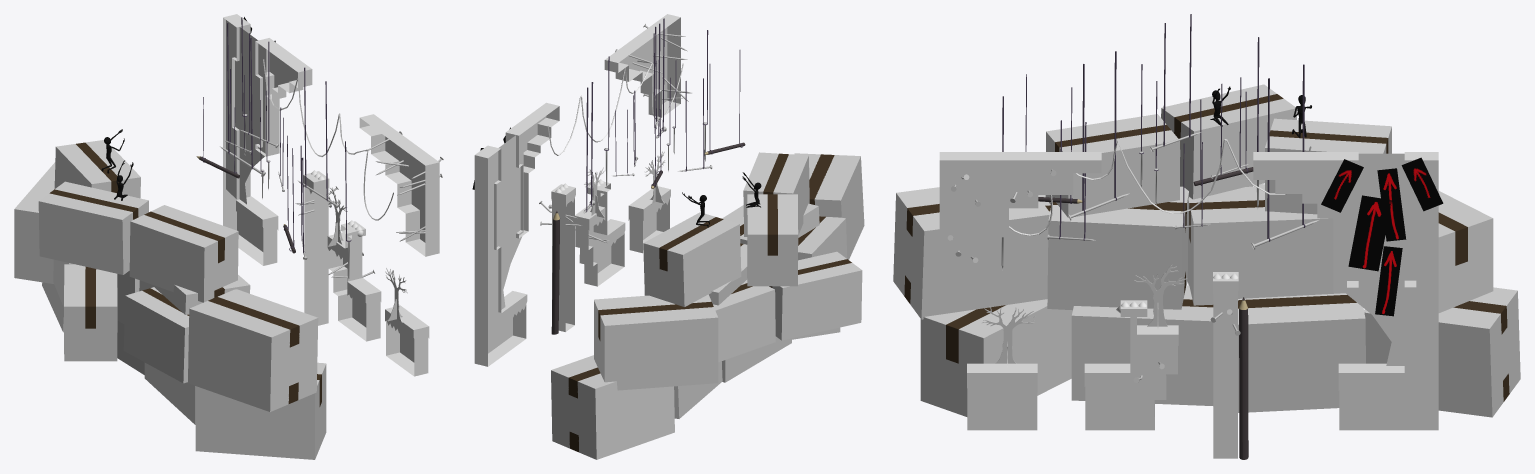
File: Pantalla 24DEF.fbx
3 renders of one model, left to right at view 1: azimuth 30°, elevation 25°; view 2: azimuth 150°, elevation 25°; view 3: azimuth 270°, elevation 25°, orthographic. The views are drawn at different scales.
Visible parts, largest first — view 1: Cube.062, Caja_1.013, Cube.071, Cube.068, Cube.072, Cube.067, Cube.063, Cube.065, Cube.070, Cube.061, Cube.073, Cube.064 (+8 smaller); view 2: Cube.062, Cube.073, Caja_1.011, Cube.070, Cube.067, Cube.072, Cube.063, Caja_1.013, Cube.066, Cube.071, Cube.061, Cube.065 (+9 smaller); view 3: Cube.062, Caja_1.012, Cube.069, Caja_1.010, Caja_1.013, Cube.068, Caja_1.011, Cube.071, Cube.072, Cube.064, Cube.063, Cube.061 (+15 smaller).
Part boxes in pixels (x1,y1,x2,y2): Cube.062: (223, 14, 439, 376); Caja_1.013: (188, 289, 318, 411); Cube.071: (129, 205, 238, 302); Cube.068: (195, 362, 326, 459); Cube.072: (38, 181, 148, 274); Cube.067: (64, 264, 117, 361); Cube.063: (226, 20, 266, 204); Cube.065: (123, 287, 189, 383); Cube.070: (54, 140, 140, 198); Cube.061: (236, 171, 429, 342); Cube.073: (14, 162, 55, 283); Cube.064: (144, 362, 195, 424); Cube.062: (474, 14, 680, 366); Cube.073: (594, 294, 718, 390); Caja_1.011: (551, 355, 674, 459); Cube.070: (643, 212, 741, 306); Cube.067: (769, 251, 862, 340); Cube.072: (747, 194, 798, 286); Cube.063: (488, 132, 523, 319); Caja_1.013: (794, 153, 864, 259); Cube.066: (713, 280, 775, 362); Cube.071: (743, 152, 809, 236); Cube.061: (501, 184, 670, 323); Cube.065: (798, 216, 847, 260); Cube.062: (939, 152, 1438, 458); Caja_1.012: (1047, 186, 1188, 310); Cube.069: (1187, 186, 1339, 305); Caja_1.010: (1238, 293, 1365, 412); Caja_1.013: (893, 187, 1049, 319); Cube.068: (920, 299, 1072, 416); Caja_1.011: (1364, 287, 1520, 417); Cube.071: (1045, 114, 1180, 217); Cube.072: (1161, 84, 1296, 199); Cube.064: (1071, 285, 1213, 405); Cube.063: (1346, 153, 1416, 365); Cube.061: (967, 272, 1404, 395).
Size of the model in its own units: 7467 by 7825 by 10738.
